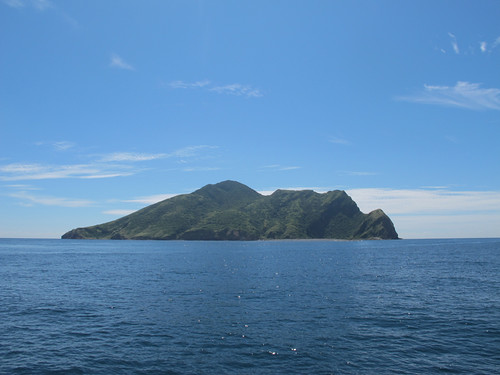turtleIsland: (60, 176, 396, 245)
